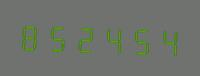eight: (17, 17, 43, 54)
five: (126, 20, 152, 57), (44, 18, 70, 54)
four: (99, 19, 125, 56), (153, 21, 179, 58)
two: (72, 19, 98, 55)
